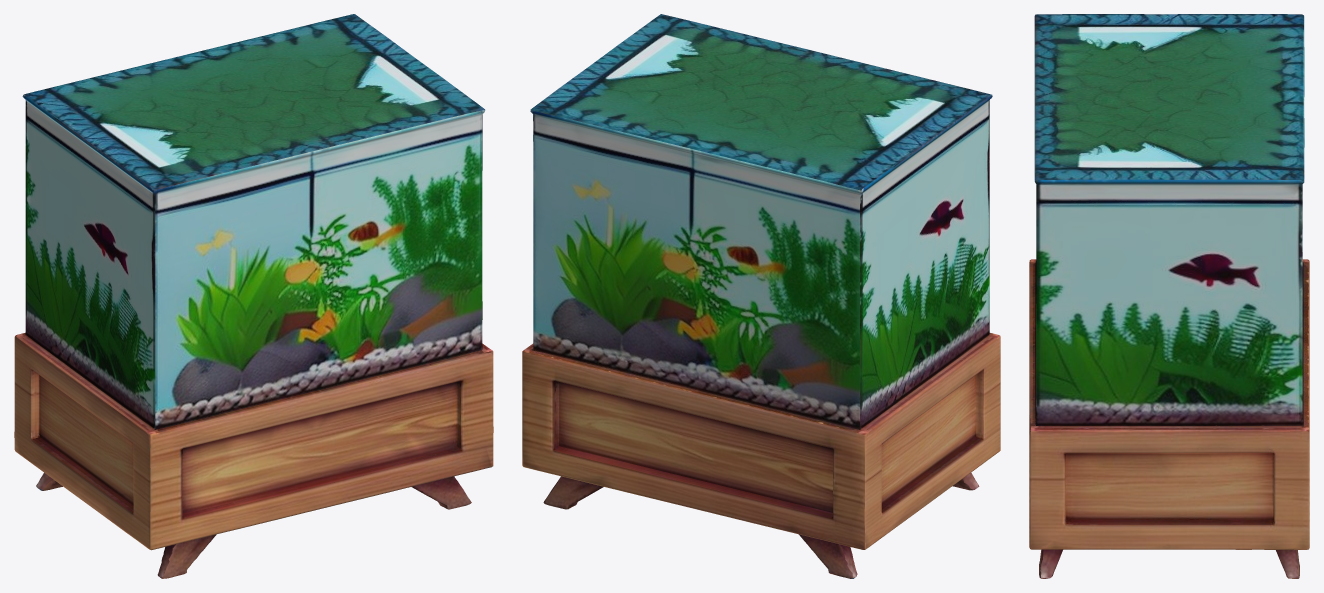
The model's file is aquarium.glb.
3 renders of one model, left to right at view 1: azimuth 30°, elevation 25°; view 2: azimuth 150°, elevation 25°; view 3: azimuth 270°, elevation 25°, orthographic. The views are drawn at different scales.
Parts seen in each view (by area): view 1: aquarium; view 2: aquarium; view 3: aquarium.
Boxes of the visible parts, x1=… form: aquarium: x1=14, y1=14, x2=493, y2=578; aquarium: x1=522, y1=14, x2=1000, y2=578; aquarium: x1=1029, y1=14, x2=1309, y2=578.
Bounding box in the file's own units: 0.9114 × 1 × 0.6273.
1 material, 1 textured.
